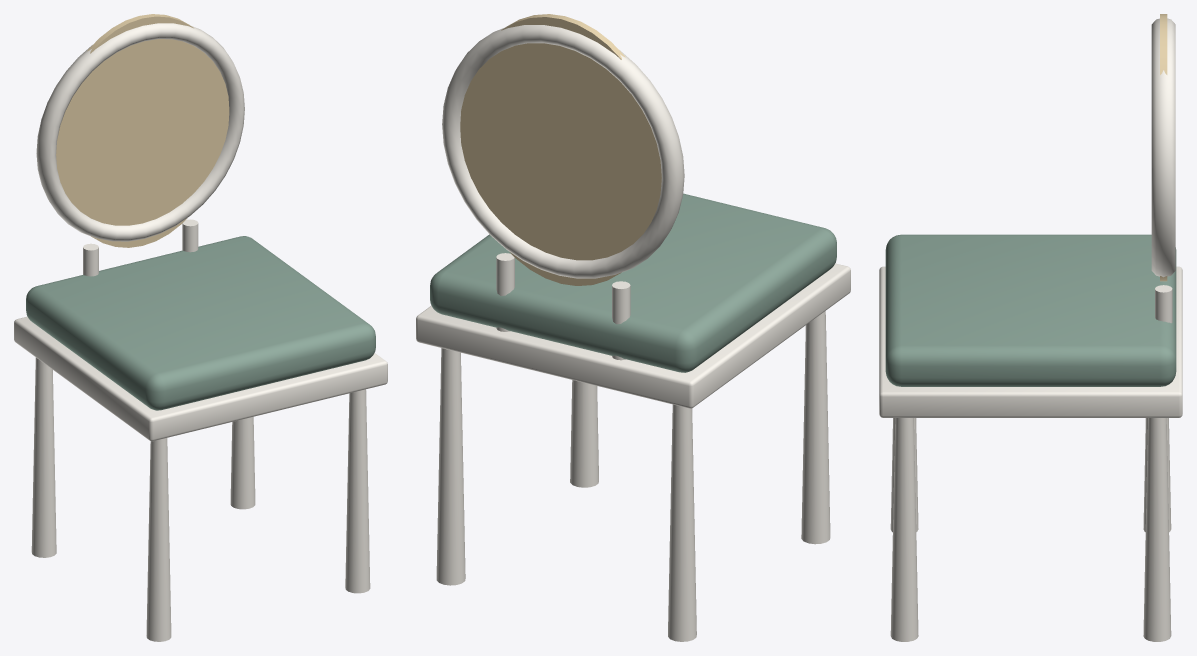
Rendered from desk_chair.glb.
3 renders of one model, left to right at view 1: azimuth 30°, elevation 25°; view 2: azimuth 150°, elevation 25°; view 3: azimuth 270°, elevation 25°, orthographic. The views are drawn at different scales.
Visible parts, largest first — view 1: seat, cane, seatframe, oval, leg, leg.002, leg.001, leg.003, post.001; view 2: seat, cane, seatframe, oval, leg.001, leg.003, leg, leg.002, post, post.001; view 3: seat, seatframe, oval, leg.002, leg.003, leg, leg.001, post.001, cane.
Part boxes in pixels (<box>): seat: <box>26,236,375,410</box>; cane: <box>56,14,229,247</box>; seatframe: <box>14,316,387,441</box>; oval: <box>36,23,244,241</box>; leg: <box>146,438,171,641</box>; leg.002: <box>345,389,370,593</box>; leg.001: <box>31,357,56,557</box>; leg.003: <box>230,417,255,509</box>; post.001: <box>182,219,198,252</box>; seat: <box>430,193,836,372</box>; cane: <box>460,14,661,285</box>; seatframe: <box>416,263,850,408</box>; oval: <box>442,25,684,278</box>; leg.001: <box>668,404,696,641</box>; leg.003: <box>436,348,465,585</box>; leg: <box>801,311,830,544</box>; leg.002: <box>570,380,598,487</box>; post: <box>612,281,630,360</box>; post.001: <box>496,253,514,331</box>; seat: <box>885,234,1176,386</box>; seatframe: <box>879,266,1182,417</box>; oval: <box>1151,18,1175,277</box>; leg.002: <box>890,418,918,641</box>; leg.003: <box>1143,418,1171,641</box>; leg: <box>890,418,918,532</box>; leg.001: <box>1143,418,1171,532</box>; post.001: <box>1155,285,1172,323</box>; cane: <box>1160,14,1167,281</box>.
Bounding box in the file's own units: 0.48 × 0.9787 × 0.48.
